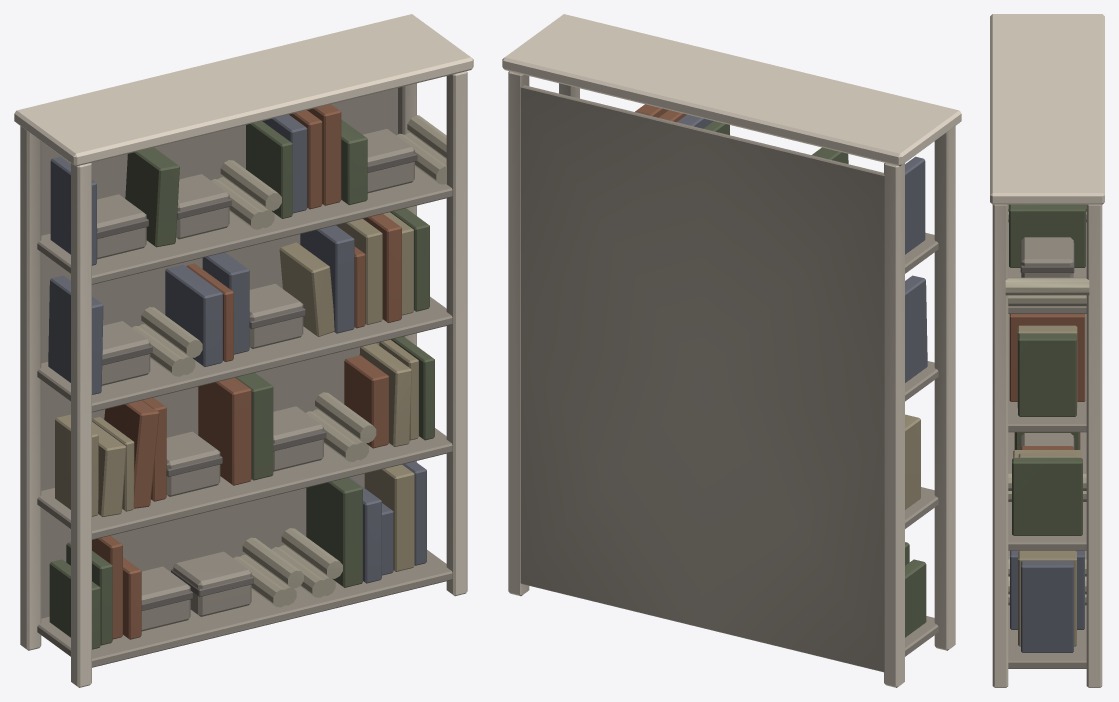
The model's file is dngp_shelf.glb.
3 renders of one model, left to right at view 1: azimuth 30°, elevation 25°; view 2: azimuth 150°, elevation 25°; view 3: azimuth 270°, elevation 25°, orthographic. The views are drawn at different scales.
Visible parts, largest first — view 1: book; view 2: book; view 3: book.
Boxes of the visible parts, x1,y1,x2,y2 form: book: (14,14,473,687); book: (502,14,961,687); book: (990,14,1104,687).
Size of the model in its own units: 1.64 by 2.1 by 0.44.
